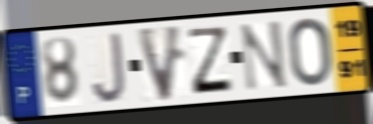8: (40, 36, 80, 110)
J: (90, 30, 128, 106)
N: (238, 17, 290, 94)
O: (286, 15, 334, 89)
V: (134, 23, 186, 105)
Z: (187, 25, 235, 97)
